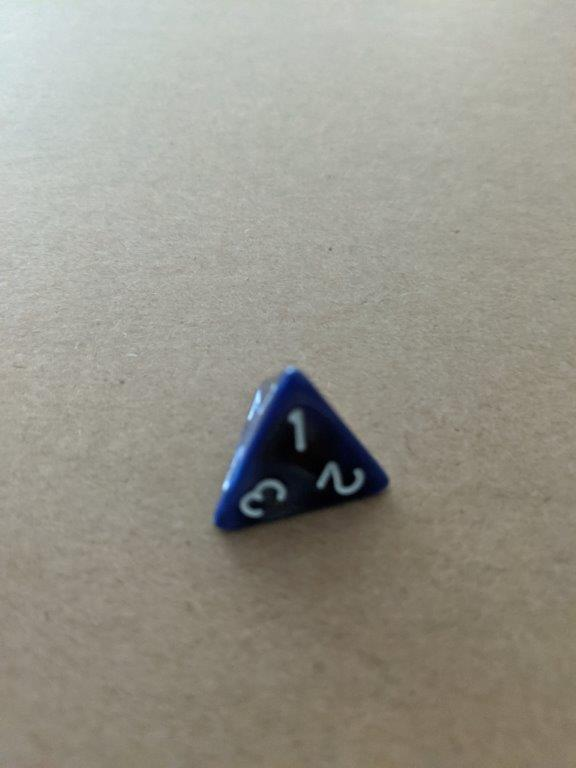d4-1: (207, 361, 395, 541)
